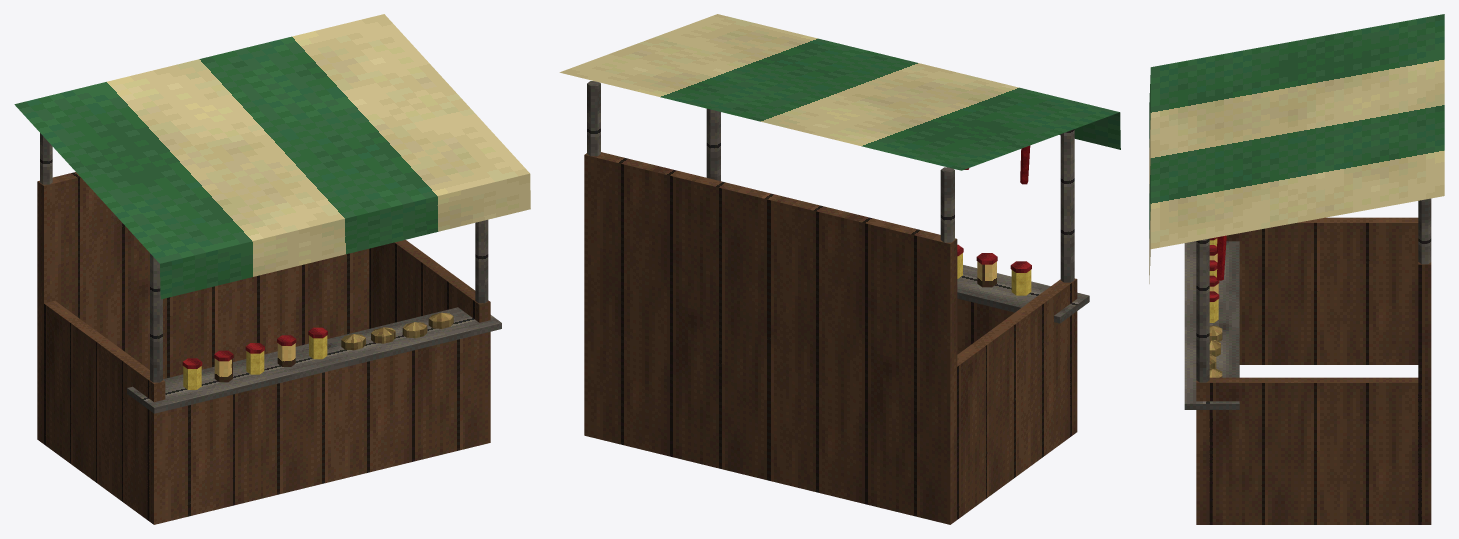
The model's file is puesto_comida.obj.
The picture shows the model from 3 angles, left to right: view 1: azimuth 30°, elevation 25°; view 2: azimuth 150°, elevation 25°; view 3: azimuth 270°, elevation 25°; orthographic projection. The views are drawn at different scales.
Parts seen in each view (by area): view 1: puesto_comida; view 2: puesto_comida; view 3: puesto_comida.
Boxes of the visible parts, x1,y1,x2,y2 form: puesto_comida: [14, 14, 530, 524]; puesto_comida: [559, 14, 1120, 524]; puesto_comida: [1149, 14, 1444, 524].
Size of the model in its own units: 3.3 by 2.85 by 2.26.
8 materials, 8 textured.
